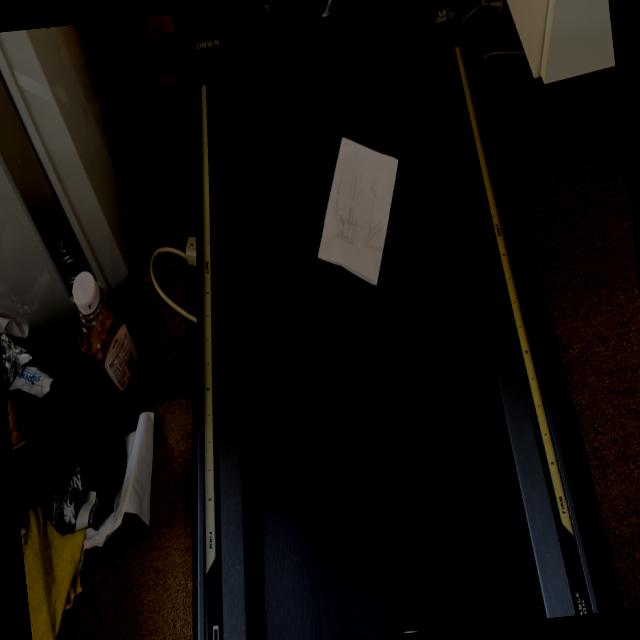Trash: (296, 114, 420, 310)
